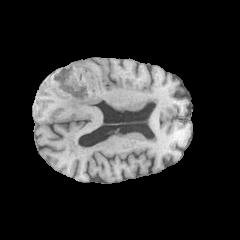glioma: (37, 62, 102, 123)
